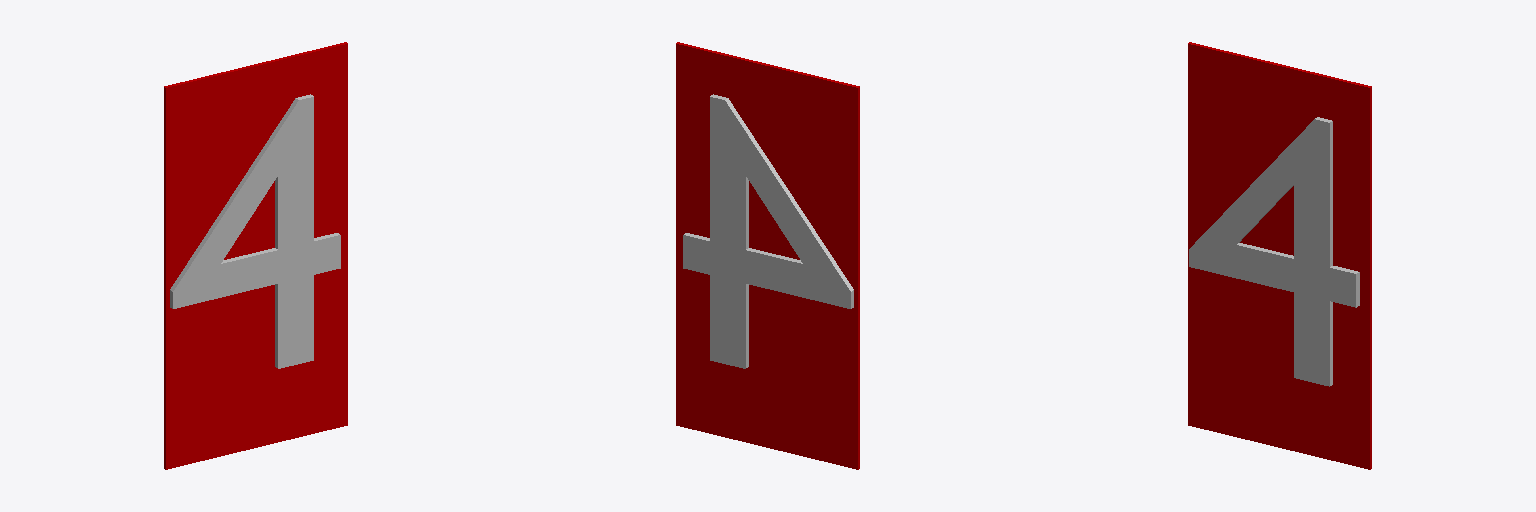
Rendered from room4.obj.
The picture shows the model from 3 angles: view 1: azimuth 30°, elevation 25°; view 2: azimuth 150°, elevation 25°; view 3: azimuth 330°, elevation 25°; orthographic projection.
Parts seen in each view (by area): view 1: Cube, Text; view 2: Cube, Text; view 3: Cube, Text.
Boxes of the visible parts, box(x1,y1,x2,y2) form: Cube: box(164, 42, 347, 469); Text: box(170, 94, 340, 368); Cube: box(676, 42, 859, 469); Text: box(683, 94, 853, 368); Cube: box(1188, 42, 1371, 469); Text: box(1189, 117, 1359, 386).
Bounding box in the file's own units: 1 × 2 × 0.08.